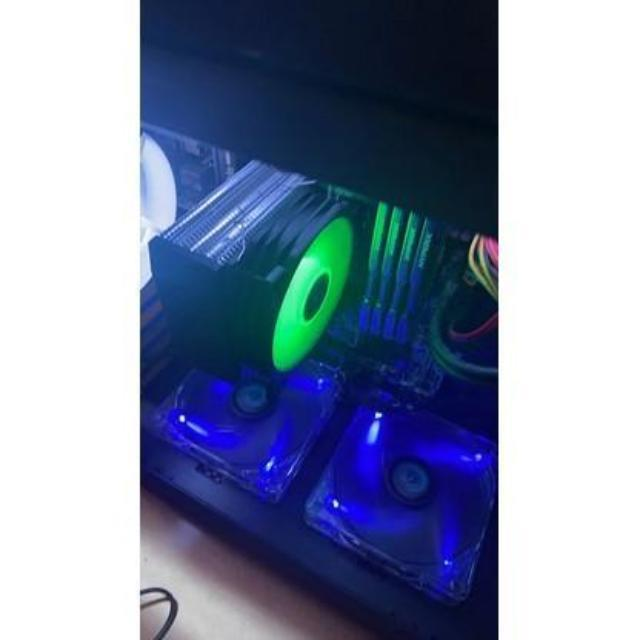CPU_Fan: (148, 162, 346, 372)
